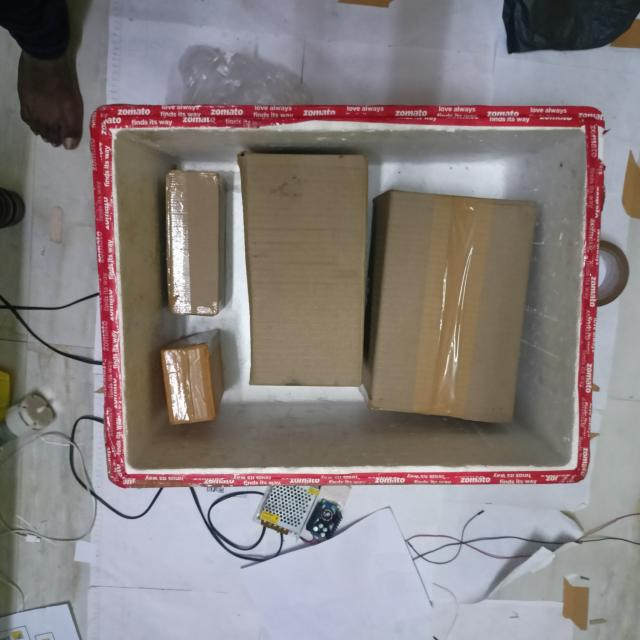box: (372, 190, 545, 424), (249, 152, 369, 377), (170, 175, 215, 316), (164, 351, 215, 425)
